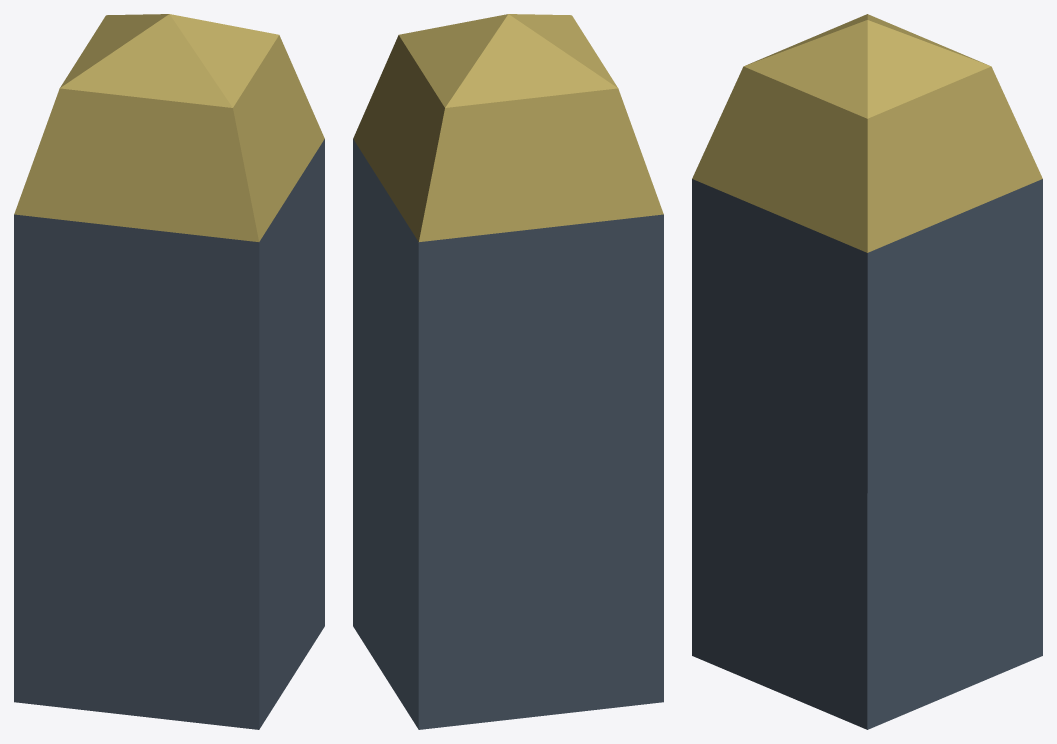
File: Sleeve.fbx
The picture shows the model from 3 angles, left to right: view 1: azimuth 30°, elevation 25°; view 2: azimuth 150°, elevation 25°; view 3: azimuth 270°, elevation 25°; orthographic projection. The views are drawn at different scales.
Visible parts, largest first — view 1: Sphere; view 2: Sphere; view 3: Sphere.
Boxes of the visible parts, x1,y1,x2,y2 form: Sphere: [14, 14, 324, 729]; Sphere: [353, 14, 663, 729]; Sphere: [692, 14, 1042, 729].
Bounding box in the file's own units: 10 × 20 × 10.
